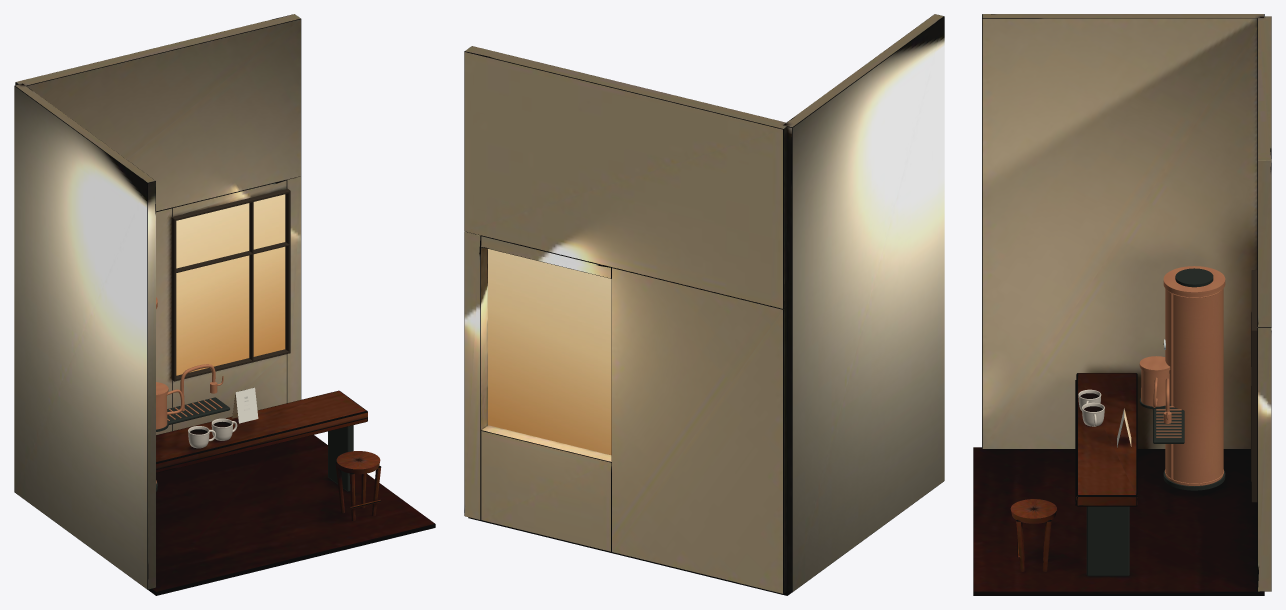
File: room-baked.glb
3 renders of one model, left to right at view 1: azimuth 30°, elevation 25°; view 2: azimuth 150°, elevation 25°; view 3: azimuth 270°, elevation 25°, orthographic. The views are drawn at different scales.
Visible parts, largest first — view 1: Baked morning cafe; view 2: Baked morning cafe; view 3: Baked morning cafe.
Part boxes in pixels (x1=…): Baked morning cafe: x1=14, y1=14, x2=435, y2=595; Baked morning cafe: x1=464, y1=14, x2=944, y2=595; Baked morning cafe: x1=973, y1=14, x2=1271, y2=595.
Bounding box in the file's own units: 5.84 × 8.08 × 5.02.
Materials: 64 (46 with a texture image).
